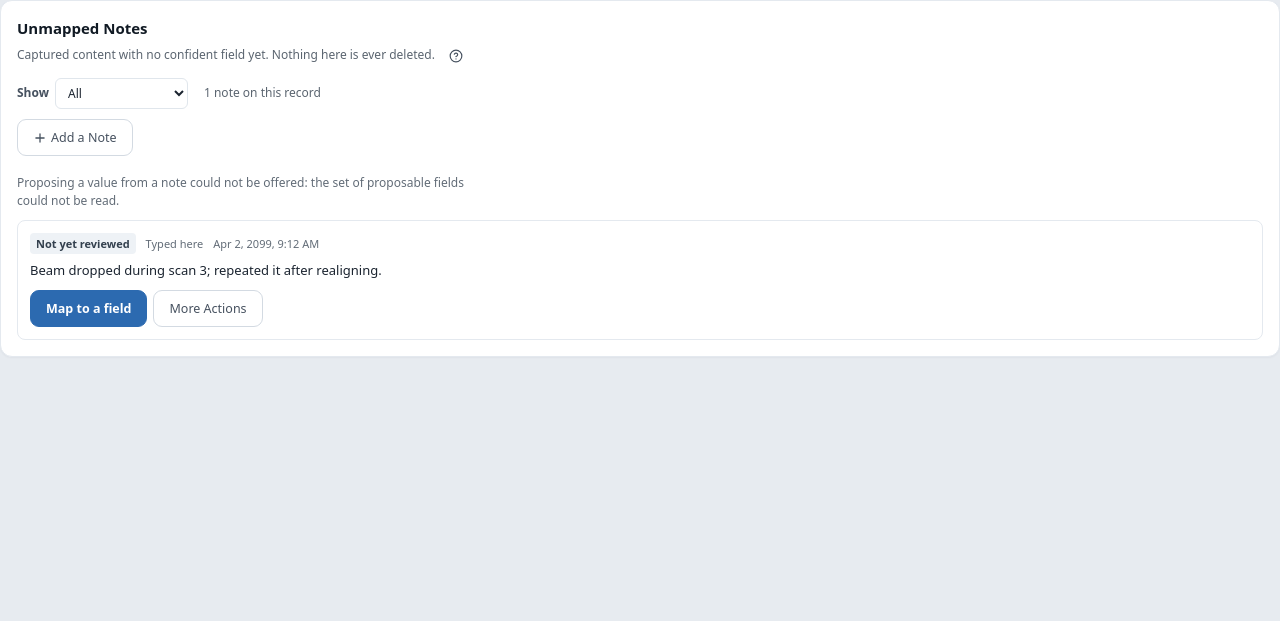
Test: dismissal is a state, not a deletion › dismissing sends a review act, never a delete
Step 1. Click the button "More Actions" → (208,309), box [154, 290, 263, 327]
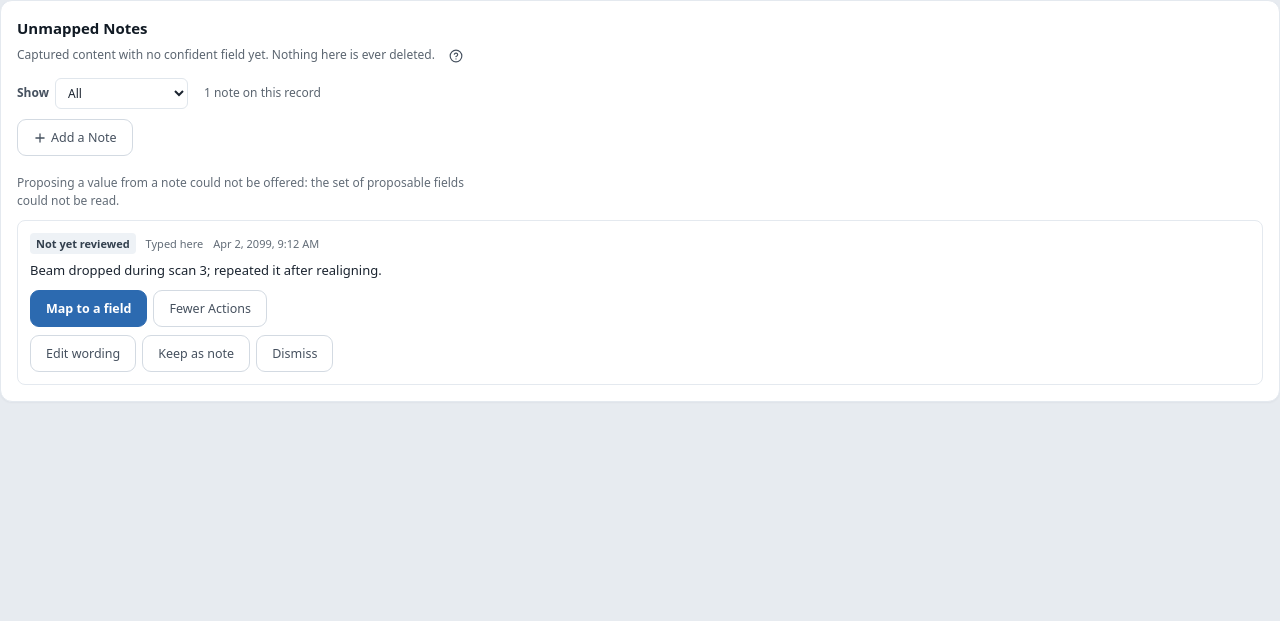
Step 2. Click the button "Dismiss" → (295,354), box [256, 335, 333, 372]
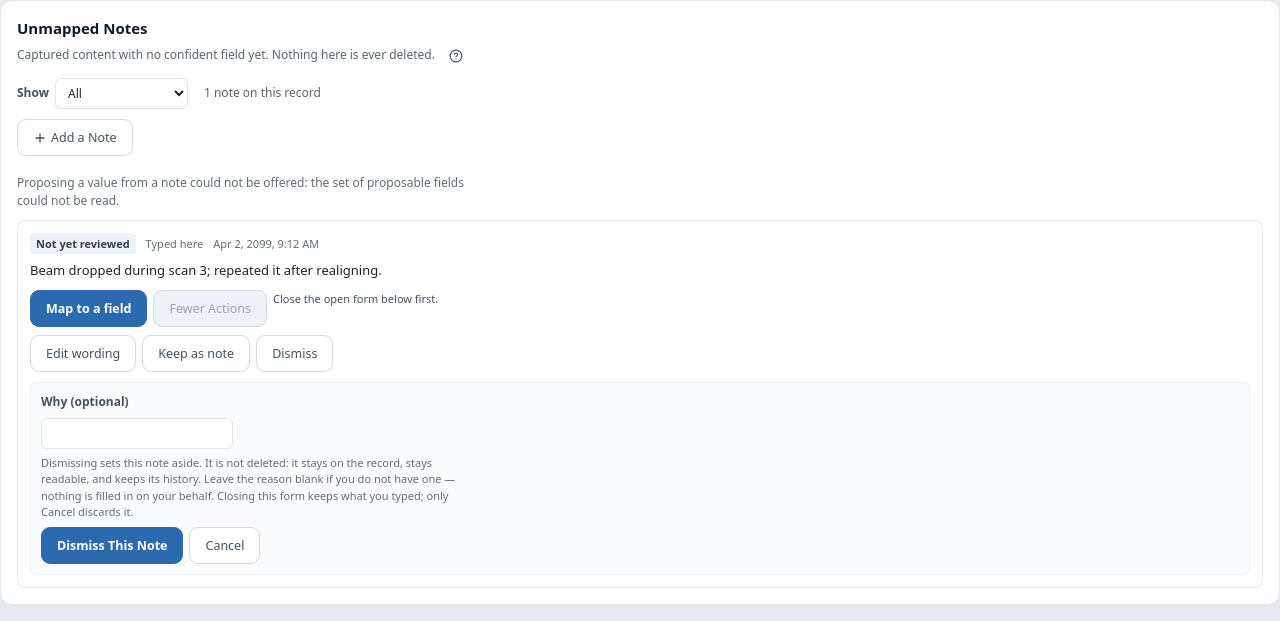
Step 3. Click the button "Dismiss This Note" → (112,545), box [41, 527, 184, 564]
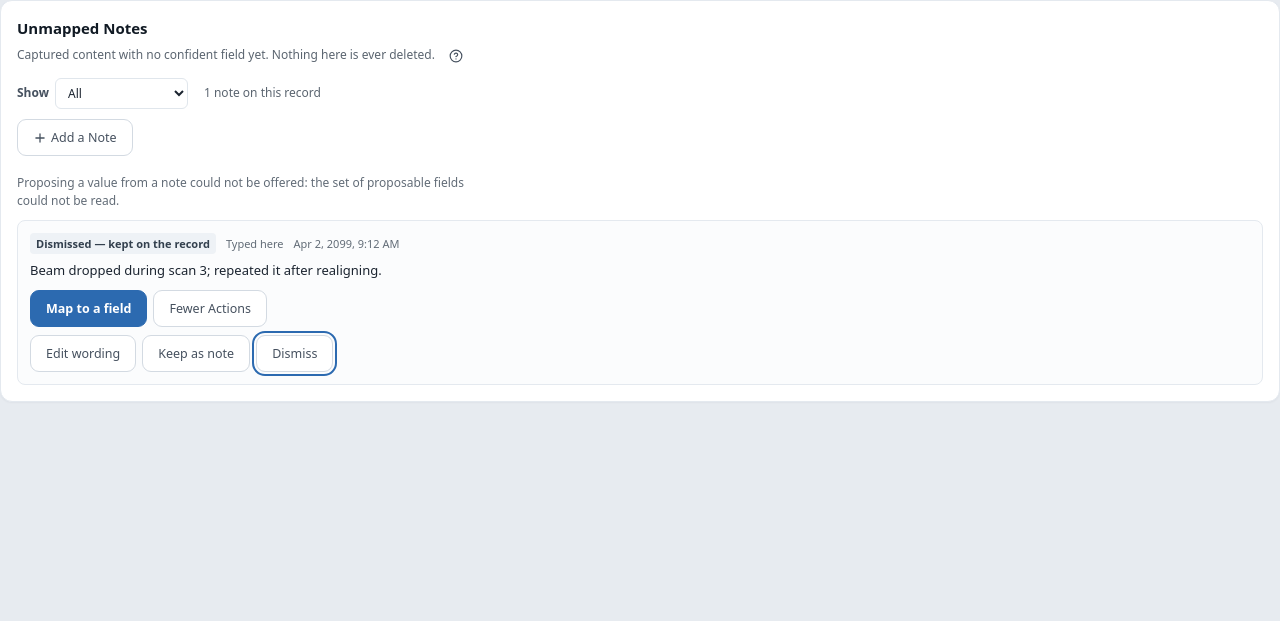
Expected: the text "Dismissed — kept on the record" is shown, [30, 233, 216, 254]
